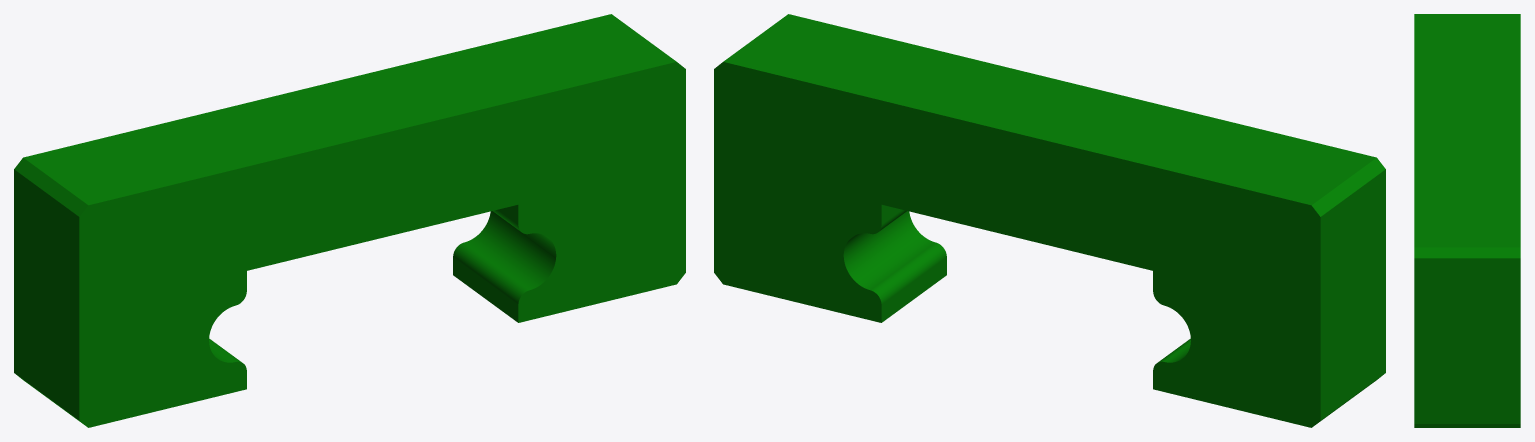
The model's file is MGN12H_EndCap.obj.
The picture shows the model from 3 angles, left to right: view 1: azimuth 30°, elevation 25°; view 2: azimuth 150°, elevation 25°; view 3: azimuth 270°, elevation 25°; orthographic projection. The views are drawn at different scales.
Visible parts, largest first — view 1: mesh4688, mesh4676, mesh4674, mesh4683, mesh4682, mesh4675, mesh4681; view 2: mesh4687, mesh4676, mesh4674, mesh4683, mesh4682, mesh4675, mesh4681; view 3: mesh4676, mesh4678, mesh4677, mesh4679.
Boxes of the visible parts, x1=… form: mesh4688: x1=79, y1=62, x2=685, y2=427; mesh4676: x1=23, y1=14, x2=676, y2=205; mesh4674: x1=14, y1=169, x2=79, y2=420; mesh4683: x1=464, y1=211, x2=556, y2=290; mesh4682: x1=453, y1=242, x2=528, y2=304; mesh4675: x1=14, y1=157, x2=88, y2=216; mesh4681: x1=453, y1=257, x2=518, y2=322; mesh4687: x1=714, y1=62, x2=1320, y2=427; mesh4676: x1=723, y1=14, x2=1376, y2=205; mesh4674: x1=1320, y1=169, x2=1385, y2=420; mesh4683: x1=843, y1=211, x2=935, y2=290; mesh4682: x1=871, y1=242, x2=946, y2=304; mesh4675: x1=1311, y1=157, x2=1385, y2=216; mesh4681: x1=881, y1=257, x2=946, y2=322; mesh4676: x1=1414, y1=14, x2=1520, y2=247; mesh4678: x1=1414, y1=258, x2=1520, y2=423; mesh4677: x1=1414, y1=247, x2=1520, y2=258; mesh4679: x1=1414, y1=424, x2=1520, y2=427.
Size of the model in its own units: 0.0268 by 0.0094 by 0.005.
